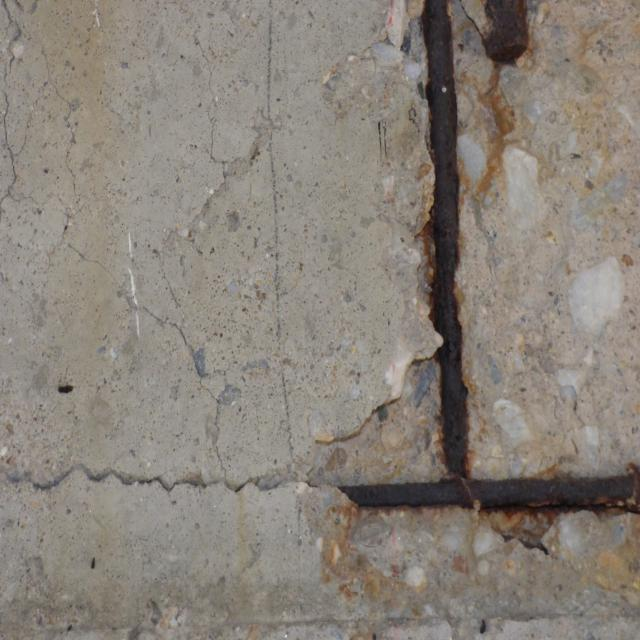corrosion: (299, 3, 640, 638)
